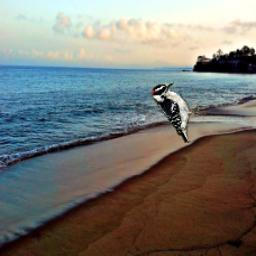Woodpecker: (150, 81, 205, 143)
